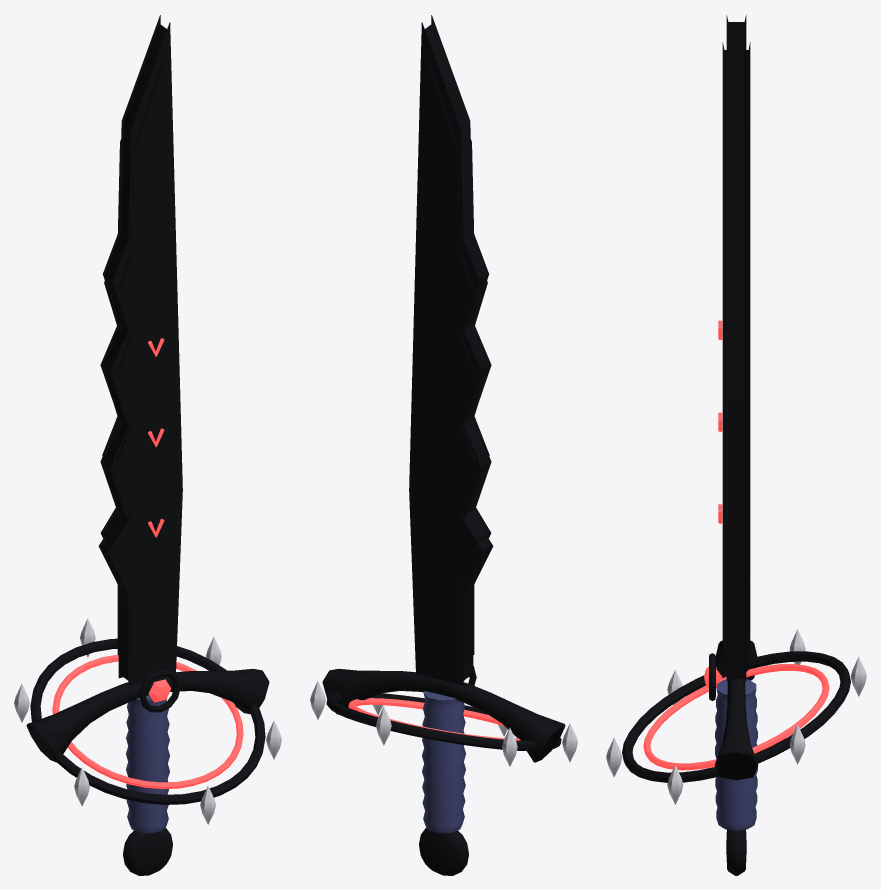
Rendered from esc_w_shadowblade_sword_6.glb.
3 renders of one model, left to right at view 1: azimuth 30°, elevation 25°; view 2: azimuth 150°, elevation 25°; view 3: azimuth 270°, elevation 25°, orthographic.
Visible parts, largest first — view 1: esc_w_shadowblade_sword_6; view 2: esc_w_shadowblade_sword_6; view 3: esc_w_shadowblade_sword_6.
Part boxes in pixels (box(x1,y1,x2,y2)): esc_w_shadowblade_sword_6: box(14, 15, 281, 875); esc_w_shadowblade_sword_6: box(310, 15, 577, 875); esc_w_shadowblade_sword_6: box(606, 15, 866, 875).
Bounding box in the file's own units: 0.3032 × 1.07 × 0.2916.
